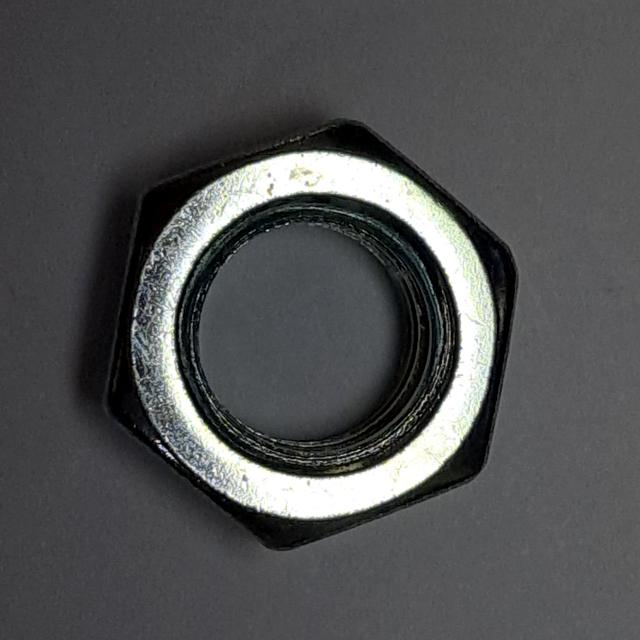Excellent: (88, 107, 532, 569)
